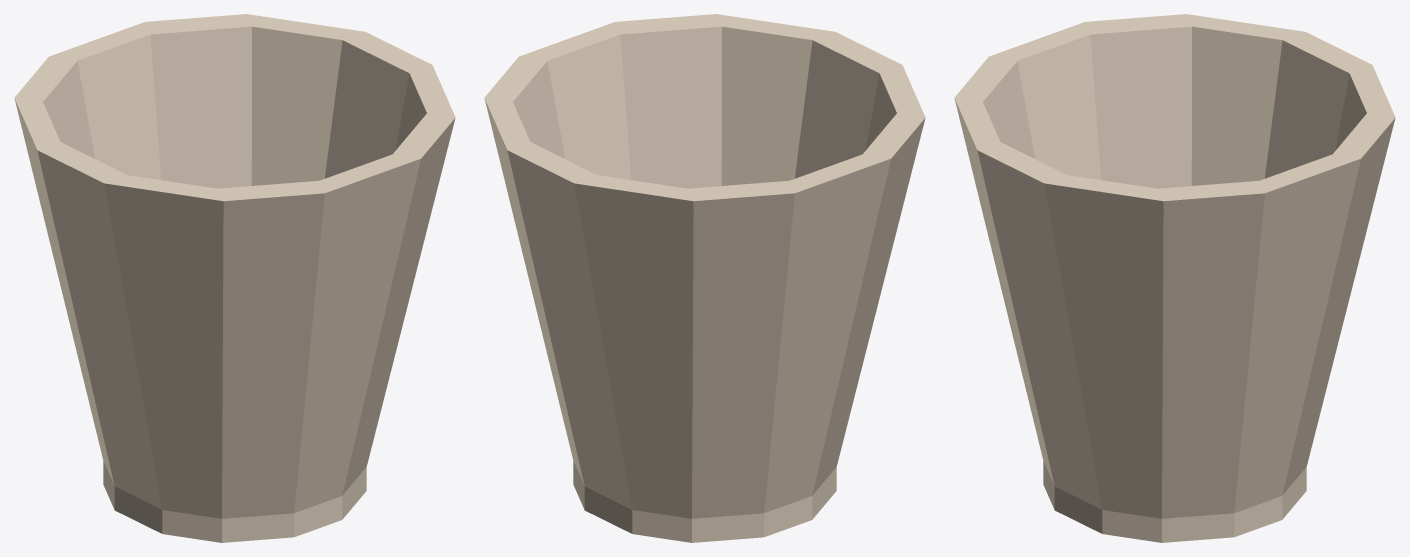
Rendered from Cup.fbx.
The picture shows the model from 3 angles, left to right: view 1: azimuth 30°, elevation 25°; view 2: azimuth 150°, elevation 25°; view 3: azimuth 270°, elevation 25°; orthographic projection.
Visible parts, largest first — view 1: Glass; view 2: Glass; view 3: Glass.
Boxes of the visible parts, left/top/right/bottom form: Glass: left=14, top=14, right=455, bottom=542; Glass: left=484, top=14, right=925, bottom=542; Glass: left=954, top=14, right=1395, bottom=542.
Size of the model in its own units: 0.2657 by 0.2512 by 0.2645.
